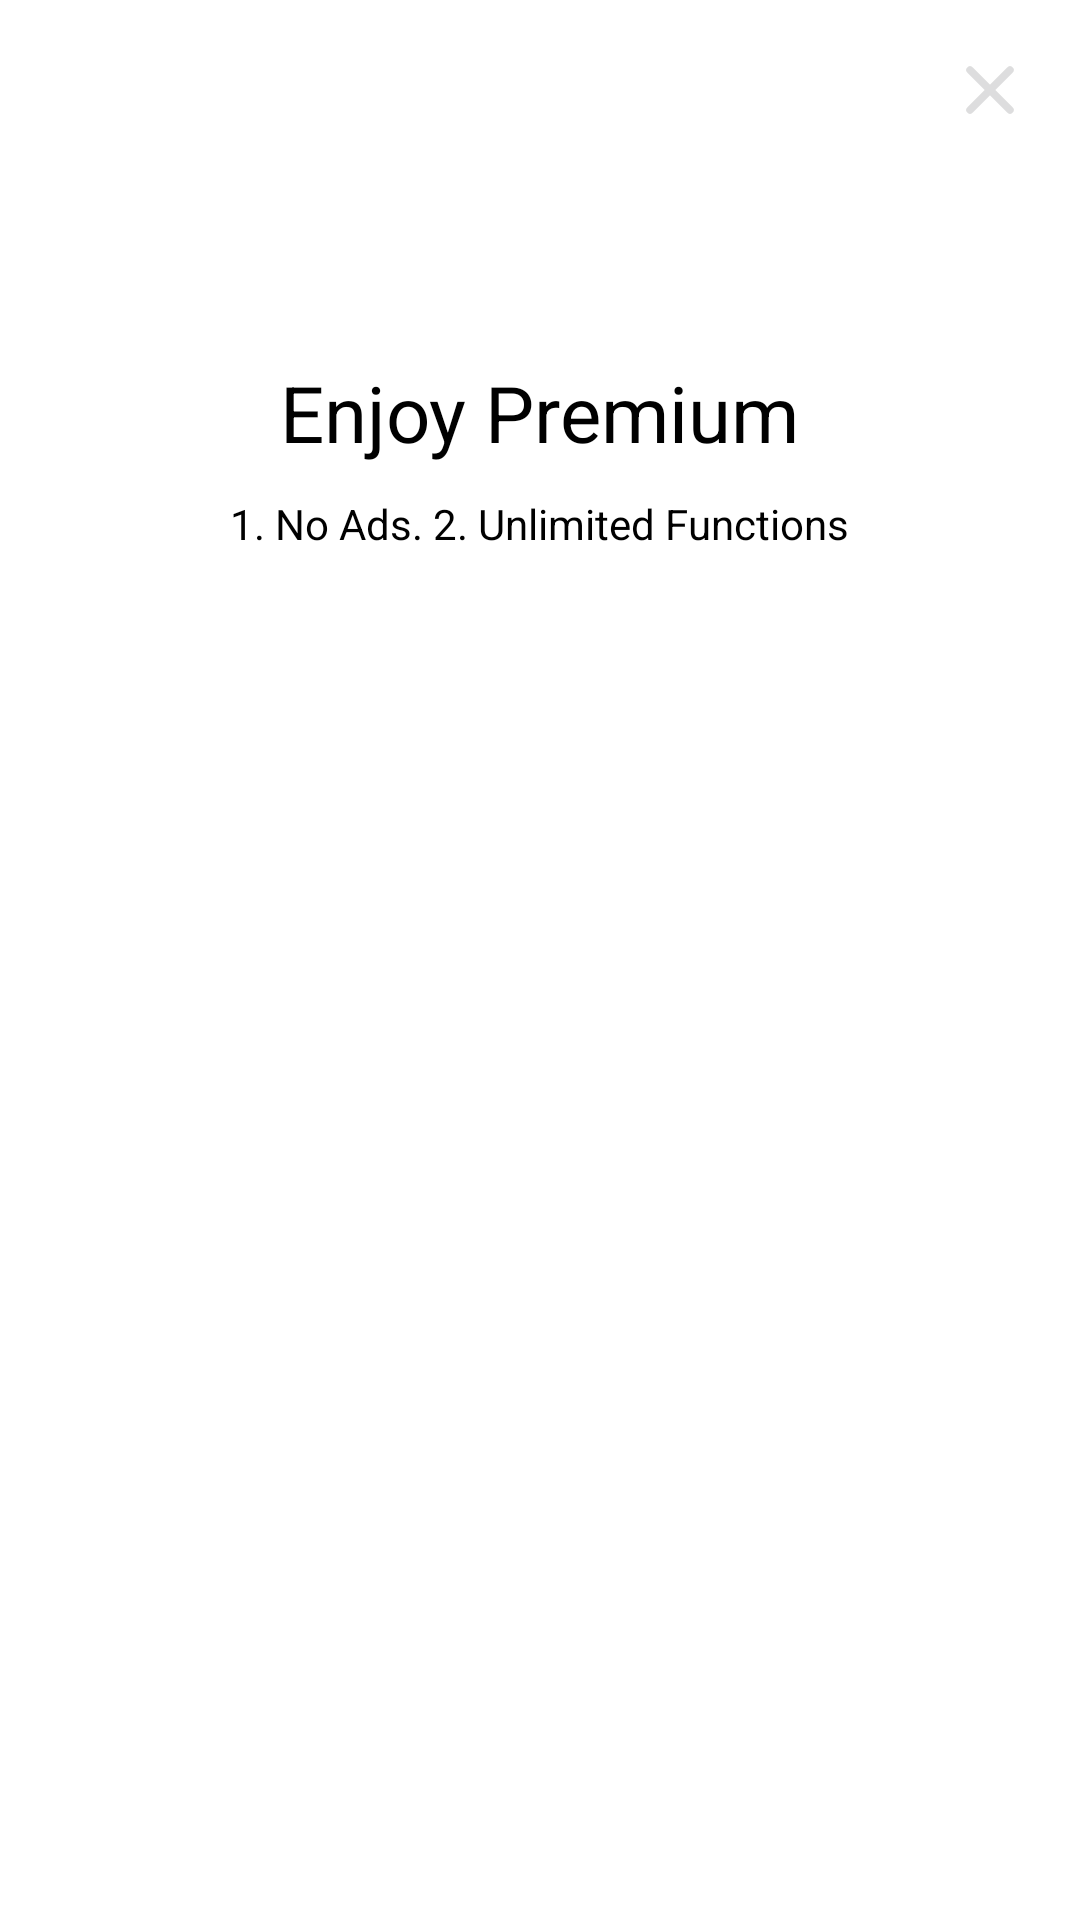

Where icons sit on this 1080w x 1920h app screen, as (x1, y1, x2, y2):
close: (966, 66, 1014, 114)
